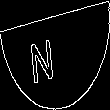N_N: (41, 26, 69, 84)
